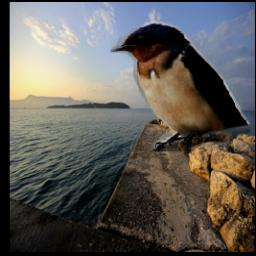Swallow: (110, 22, 250, 152)
